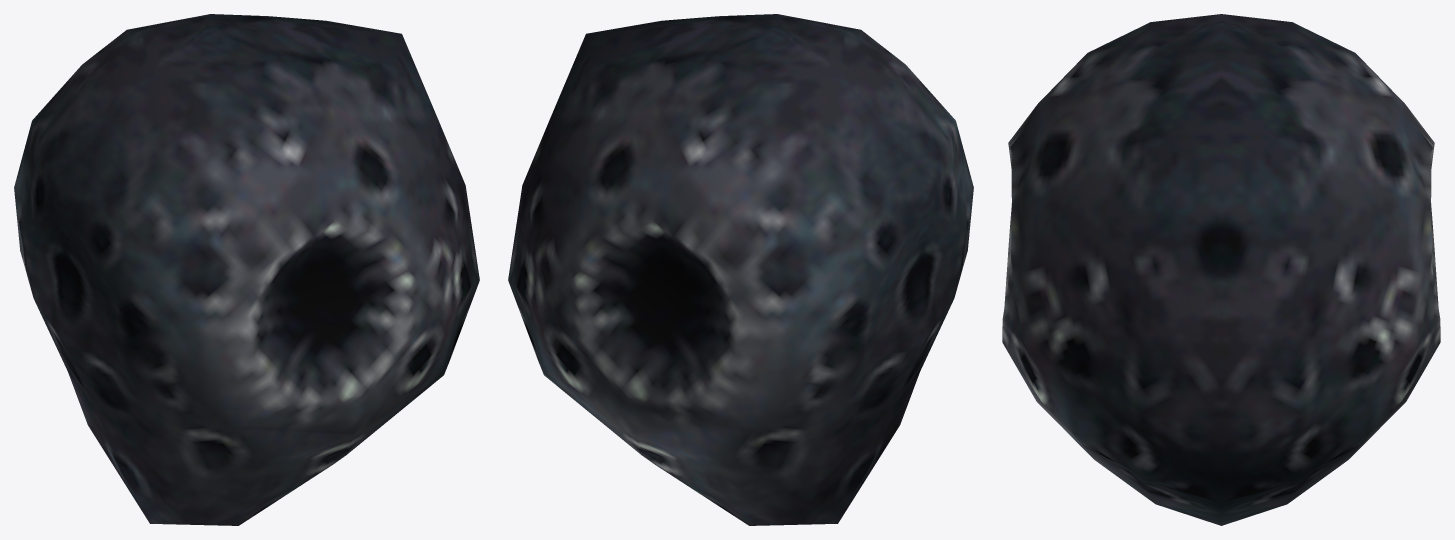
The model's file is aerolite08.FBX.
3 renders of one model, left to right at view 1: azimuth 30°, elevation 25°; view 2: azimuth 150°, elevation 25°; view 3: azimuth 270°, elevation 25°, orthographic. The views are drawn at different scales.
Parts seen in each view (by area): view 1: aerolite08; view 2: aerolite08; view 3: aerolite08.
Part boxes in pixels (<box>): aerolite08: <box>14,14,479,525</box>; aerolite08: <box>508,14,973,525</box>; aerolite08: <box>1002,14,1440,525</box>.
Size of the model in its own units: 1126 by 1327 by 1060.
